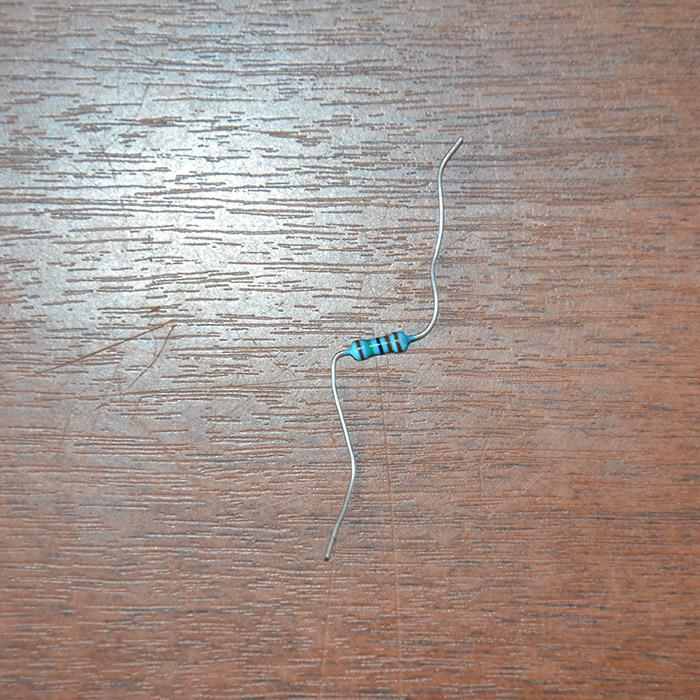resistor: (342, 331, 412, 362)
